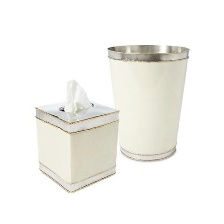tissue: (57, 72, 97, 117)
